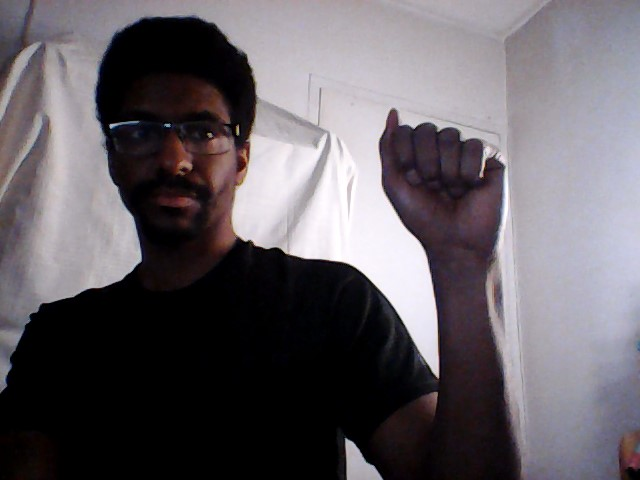a: (371, 104, 513, 268)
